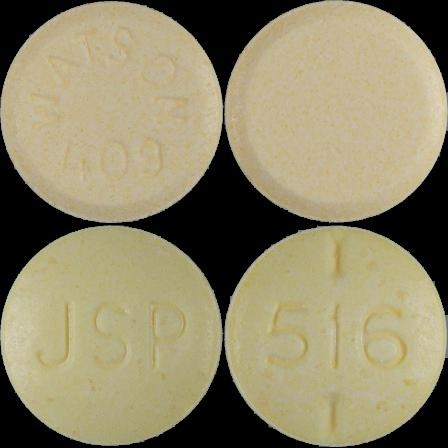51655-292: (0, 0, 224, 224)
